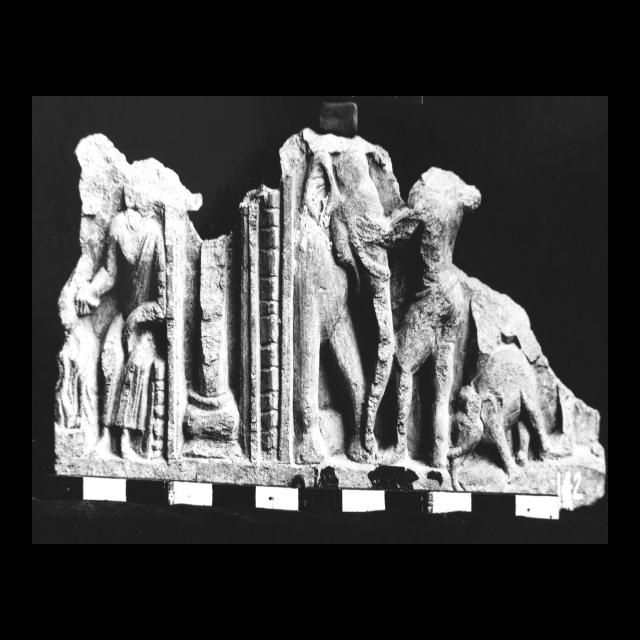buddha-sitting: (80, 184, 166, 460)
buddha-standing: (350, 167, 481, 469)
